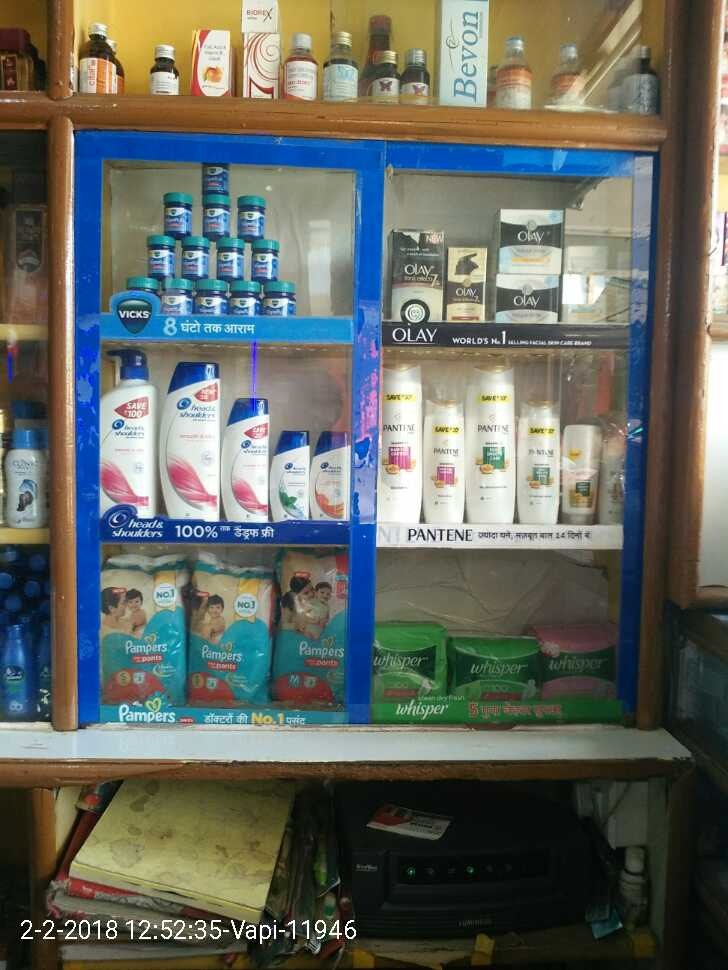beauty: (149, 359, 223, 531), (93, 351, 154, 518), (464, 360, 518, 523), (377, 357, 419, 527), (220, 390, 269, 517), (422, 391, 466, 529), (378, 226, 441, 318), (519, 400, 562, 524), (499, 197, 566, 273), (562, 414, 602, 521), (492, 274, 578, 321), (443, 242, 489, 323), (272, 416, 309, 512), (317, 423, 350, 515)
pharmacy: (95, 567, 189, 714), (185, 556, 273, 712), (272, 550, 347, 714), (445, 634, 539, 701), (369, 621, 437, 702), (543, 634, 619, 706), (158, 269, 194, 321), (178, 231, 209, 284), (250, 235, 285, 279), (236, 189, 265, 240), (197, 193, 228, 239), (226, 282, 265, 318), (200, 158, 231, 196), (264, 280, 295, 315), (145, 230, 172, 269), (161, 190, 187, 227)
